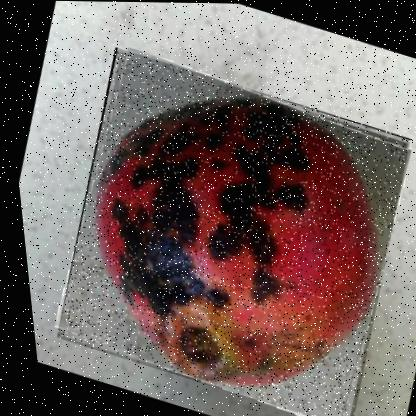pomegranate_rotten: (23, 44, 415, 415)
